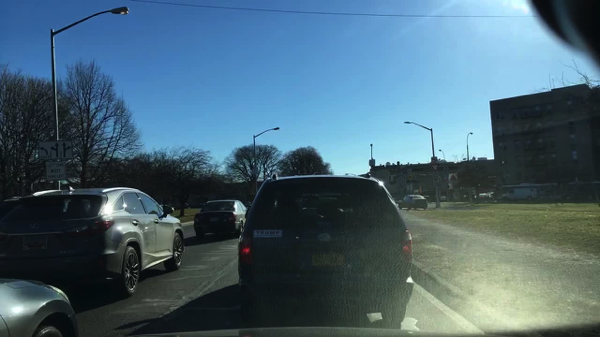bus: (501, 182, 562, 203), (568, 182, 599, 201)
car: (237, 172, 416, 329), (0, 184, 185, 296), (2, 278, 79, 336), (193, 199, 248, 238), (498, 187, 536, 202), (398, 194, 428, 211), (161, 205, 175, 213), (478, 193, 490, 201), (440, 195, 447, 203), (462, 194, 469, 200), (182, 204, 190, 209), (244, 201, 250, 207), (423, 194, 430, 199), (394, 197, 400, 202), (200, 203, 205, 209)
traffic light: (409, 174, 412, 181)
traffic sign: (38, 140, 73, 161), (46, 162, 67, 181), (448, 174, 457, 182), (433, 176, 439, 184), (369, 160, 375, 167), (253, 168, 258, 174), (432, 157, 437, 163), (433, 165, 438, 171)
